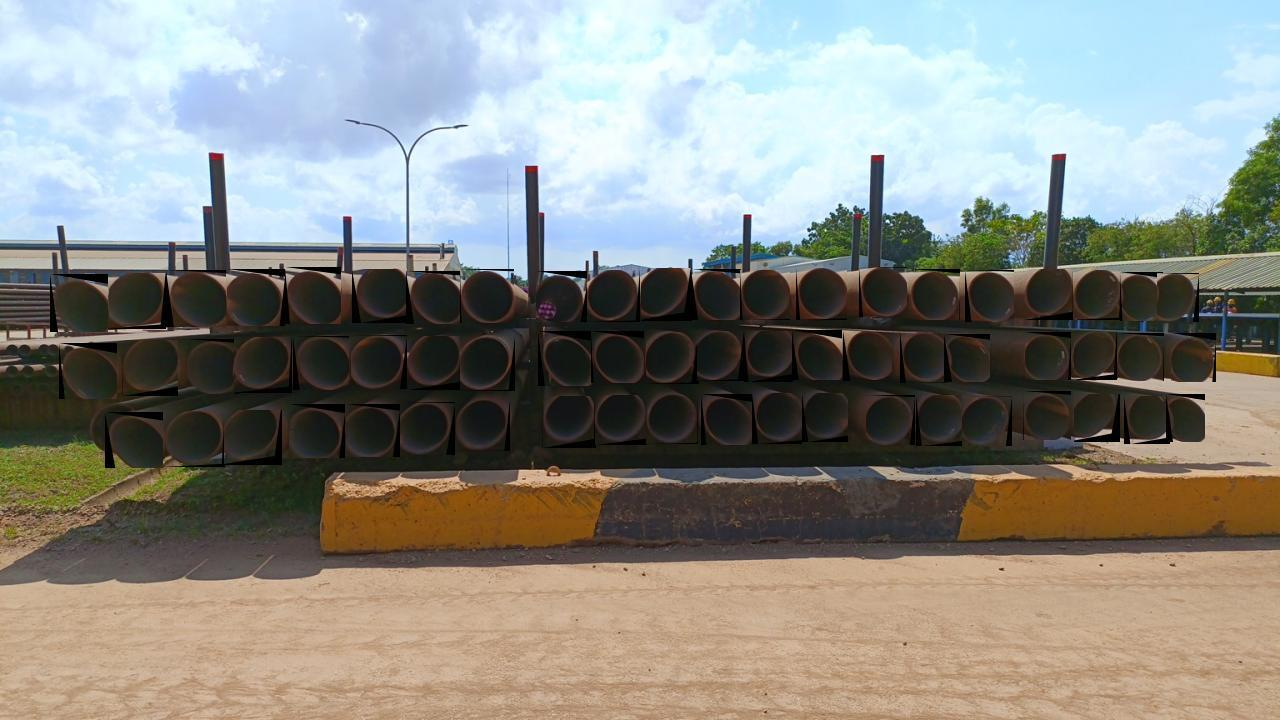pipe: (166, 270, 226, 327), (50, 274, 108, 332), (165, 411, 225, 467), (227, 269, 285, 326), (59, 343, 117, 399), (234, 337, 292, 393), (105, 412, 163, 468), (109, 273, 166, 329), (286, 267, 342, 324), (224, 410, 282, 465), (122, 340, 178, 396), (538, 331, 593, 386), (293, 336, 349, 390), (352, 335, 408, 389), (289, 404, 345, 458), (352, 269, 407, 323), (460, 337, 515, 391), (460, 269, 514, 323), (400, 402, 455, 455), (406, 271, 460, 324), (408, 336, 461, 390), (346, 404, 400, 457), (187, 339, 239, 394), (542, 396, 596, 448), (587, 270, 640, 322), (591, 332, 644, 384), (646, 332, 699, 384), (456, 400, 510, 451), (641, 268, 692, 321), (536, 271, 588, 322), (796, 268, 847, 320), (594, 395, 647, 445), (701, 394, 752, 445), (646, 394, 698, 444), (691, 269, 741, 320), (752, 393, 802, 444), (965, 270, 1014, 322), (740, 270, 790, 320), (792, 330, 842, 380), (962, 396, 1012, 446), (911, 269, 960, 320), (744, 331, 793, 382), (843, 330, 892, 381), (1024, 269, 1073, 320), (900, 331, 948, 383), (866, 395, 915, 445), (859, 268, 907, 318), (1074, 270, 1122, 320), (1023, 391, 1071, 440), (697, 331, 744, 381), (916, 395, 962, 446), (802, 393, 848, 442), (944, 334, 990, 382), (1025, 332, 1071, 380), (1118, 334, 1164, 382), (1074, 394, 1120, 442), (1124, 396, 1170, 444), (1171, 333, 1216, 382), (90, 403, 134, 453), (1120, 272, 1163, 321), (1074, 332, 1117, 380), (1158, 273, 1200, 322), (1166, 394, 1205, 442)
